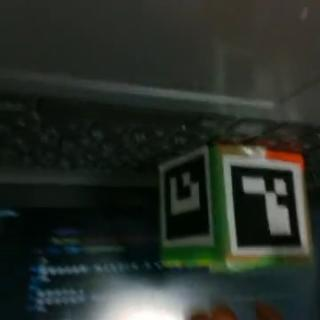armor: (224, 156, 308, 256), (162, 146, 215, 250)
robot: (160, 137, 314, 271)
